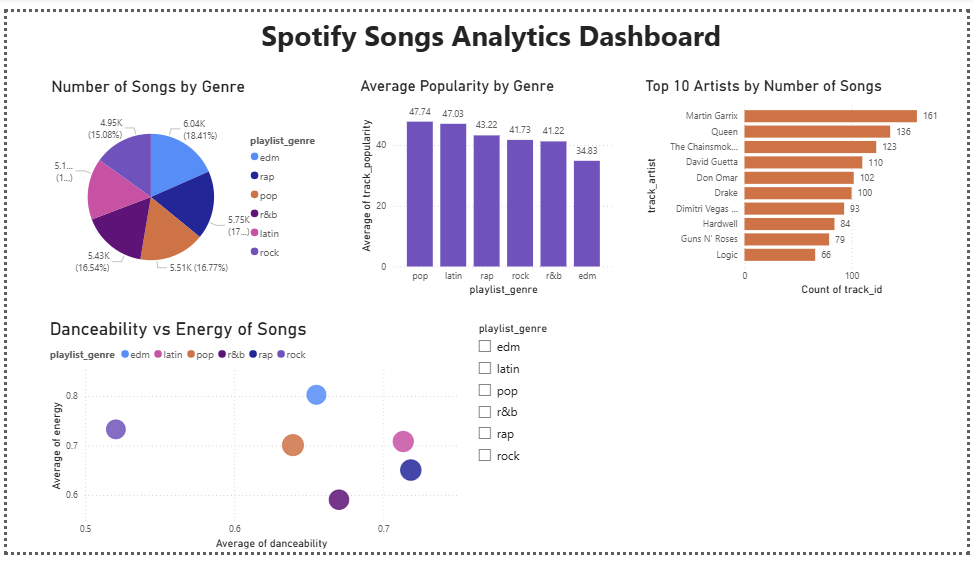

Layout of this report page (visuals, bound fields, positions):
{"tool":"powerbi","page":{"name":"Page 1","canvas":[1280,720],"ordinal":0},"visuals":[{"type":"pieChart","title":"Number of Songs by Genre","fields":{"Category":["spotify_songs.playlist_genre"],"Y":["CountNonNull(spotify_songs.track_id)"]},"box":[54,86,378,296],"z":0},{"type":"clusteredColumnChart","title":"Average Popularity by Genre","fields":{"Category":["spotify_songs.playlist_genre"],"Y":["Avg(spotify_songs.track_popularity)"]},"box":[466,86,348,296],"z":1000},{"type":"clusteredBarChart","title":"Top 10 Artists by Number of Songs","fields":{"Category":["spotify_songs.track_artist"],"Y":["CountNonNull(spotify_songs.track_id)"]},"box":[846,86,412,296],"z":2000},{"type":"textbox","box":[334,0,762,86],"z":3000},{"type":"scatterChart","title":"Danceability vs Energy of Songs","fields":{"X":["Avg(spotify_songs.danceability)"],"Y":["Avg(spotify_songs.energy)"],"Size":["Sum(spotify_songs.track_popularity)"],"Series":["spotify_songs.playlist_genre"]},"box":[54,408,562,312],"z":4000},{"type":"slicer","fields":{"Values":["spotify_songs.playlist_genre"]},"box":[616,408,198,208],"z":4001}]}

Visuals, with their boxes in screenshot pixels (x1, y1, x2, y2), scaled from the page's 1280x720 canvas onto the 973x562 screenshot:
"Number of Songs by Genre" pieChart: bbox(41, 67, 328, 298)
"Average Popularity by Genre" clusteredColumnChart: bbox(354, 67, 619, 298)
"Top 10 Artists by Number of Songs" clusteredBarChart: bbox(643, 67, 956, 298)
textbox: bbox(254, 0, 833, 67)
"Danceability vs Energy of Songs" scatterChart: bbox(41, 318, 468, 561)
slicer - spotify_songs.playlist_genre: bbox(468, 318, 619, 481)
